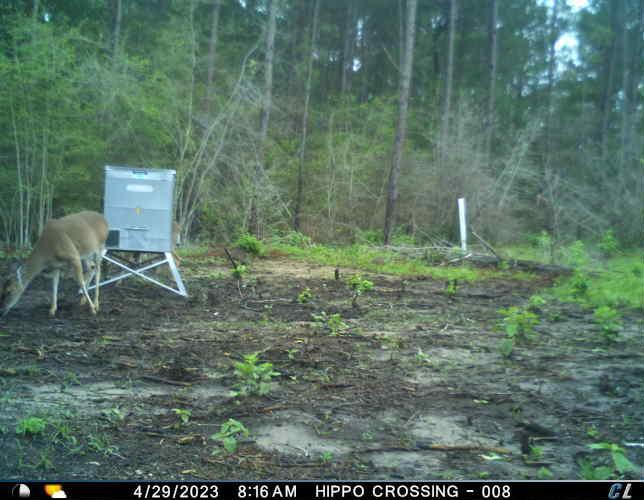Deer: (0, 207, 114, 322)
